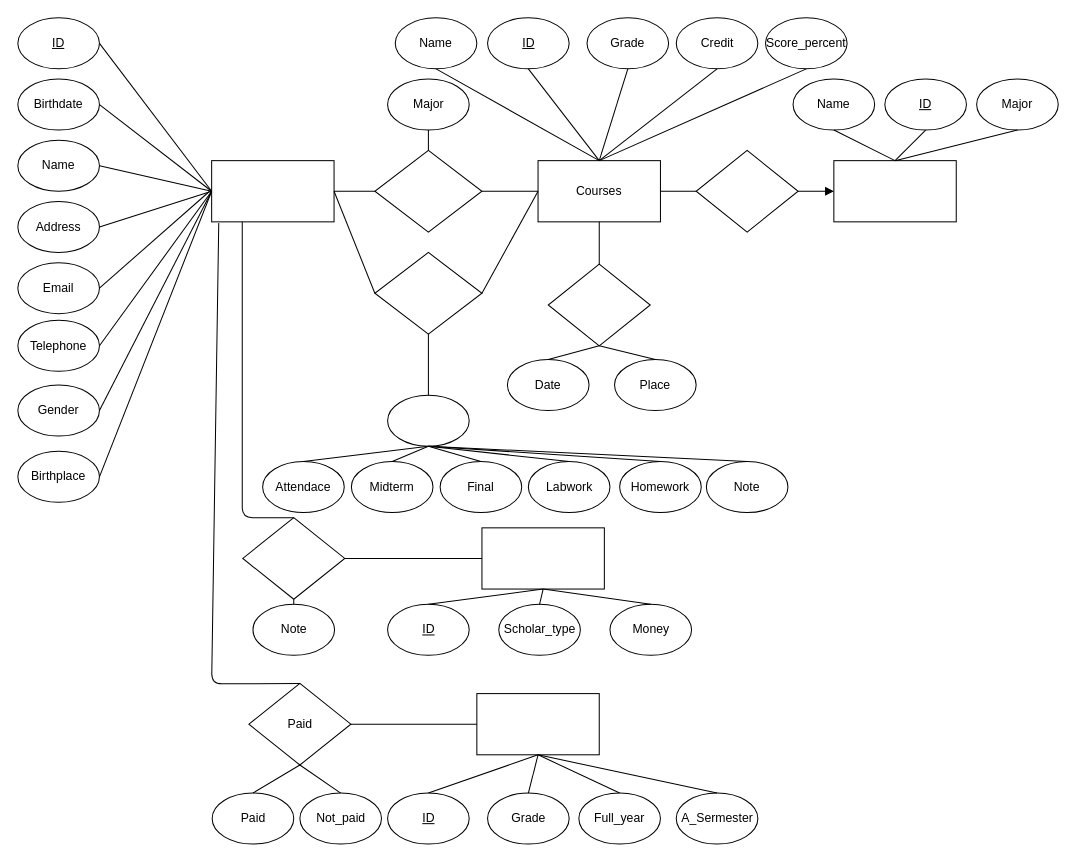
Some shapes in this 1076 by 862 pixel diagram are drawn without their labels. Here are the shapes that lost their labels. From the top down, the centre of each, then its label:
the point at 272,191: Students
the point at 428,190: Roll_in
the point at 746,190: Teaching
the point at 894,191: Lecturers
the point at 428,292: Score_record
the point at 598,304: Scheduling
the point at 428,420: Score
the point at 293,558: Has
the point at 542,558: Scholarships
the point at 537,724: Fees
